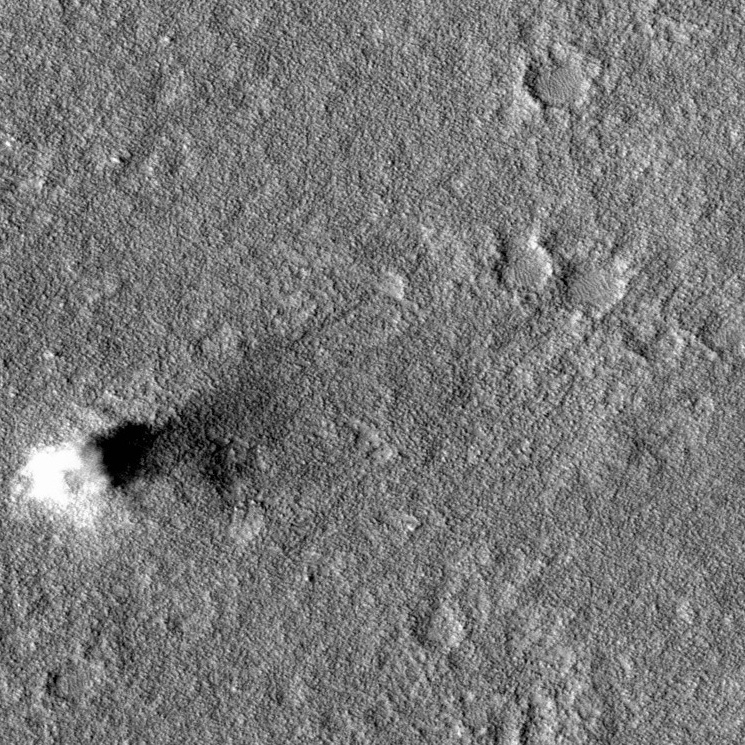dust_devil: (9, 376, 288, 529)
